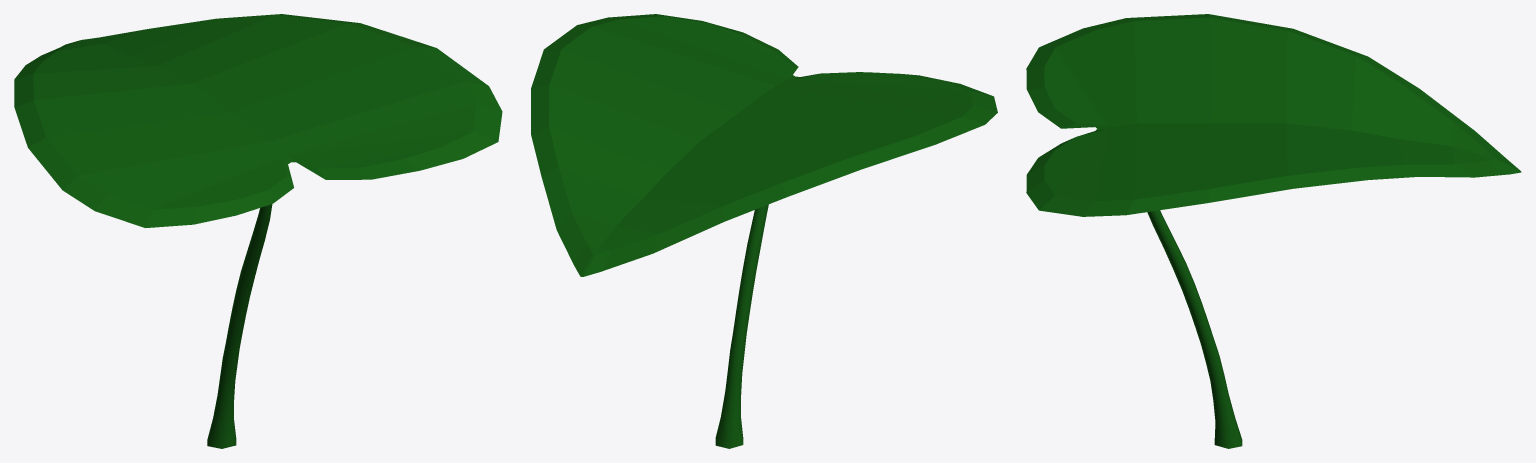
Rendered from guardachuva_folha.fbx.
3 renders of one model, left to right at view 1: azimuth 30°, elevation 25°; view 2: azimuth 150°, elevation 25°; view 3: azimuth 270°, elevation 25°, orthographic. The views are drawn at different scales.
Visible parts, largest first — view 1: folha; view 2: folha; view 3: folha.
Part boxes in pixels (x1,y1,x2,y2): folha: (14,14,502,448); folha: (531,14,997,448); folha: (1026,14,1521,448).
Bounding box in the file's own units: 183 × 147 × 194.
